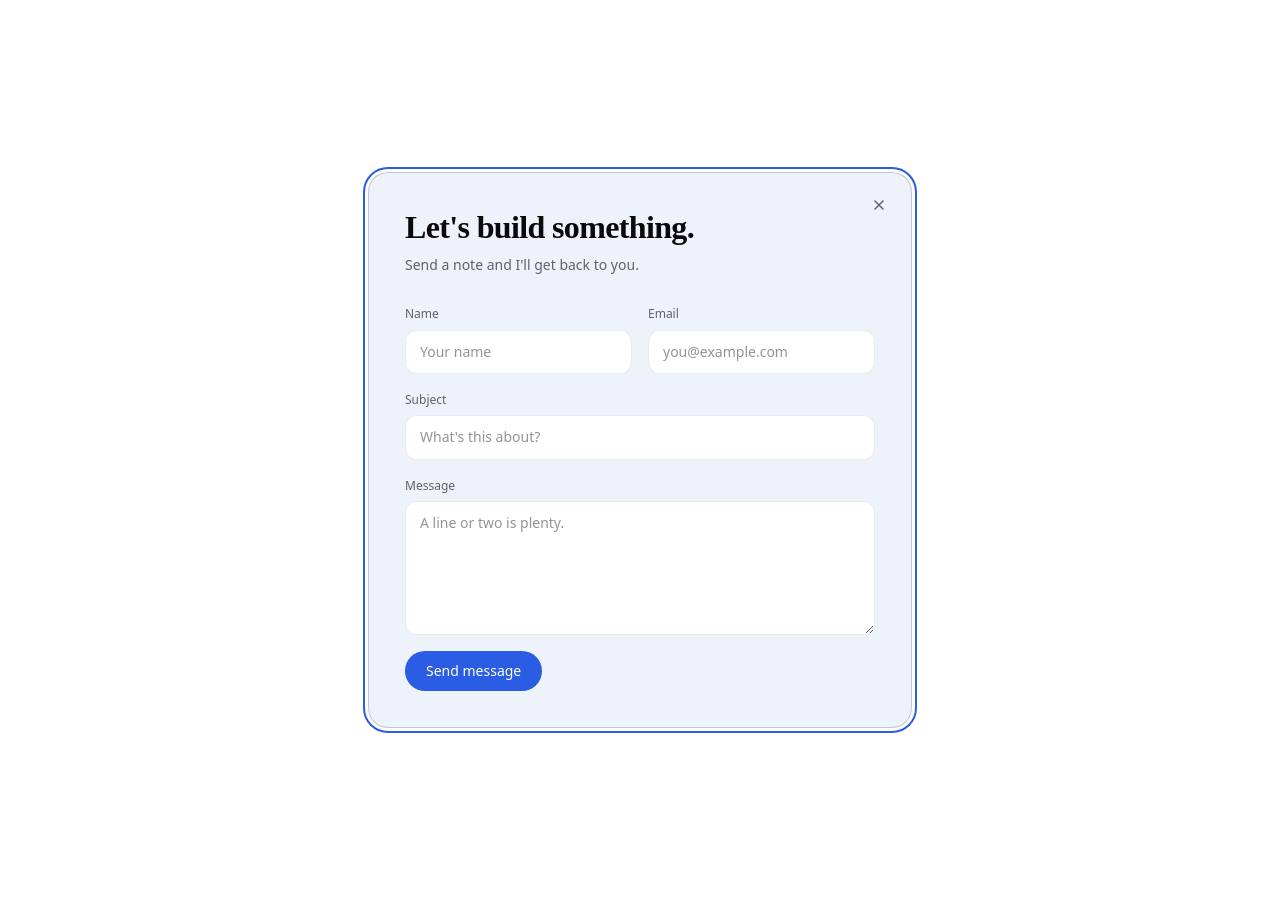
Scenario: ContactModal › falls back to a network message when the request throws
Type "Ada" into the field labelled "Name".
click(518, 352); type("Ada")  # box [405,330,632,374]
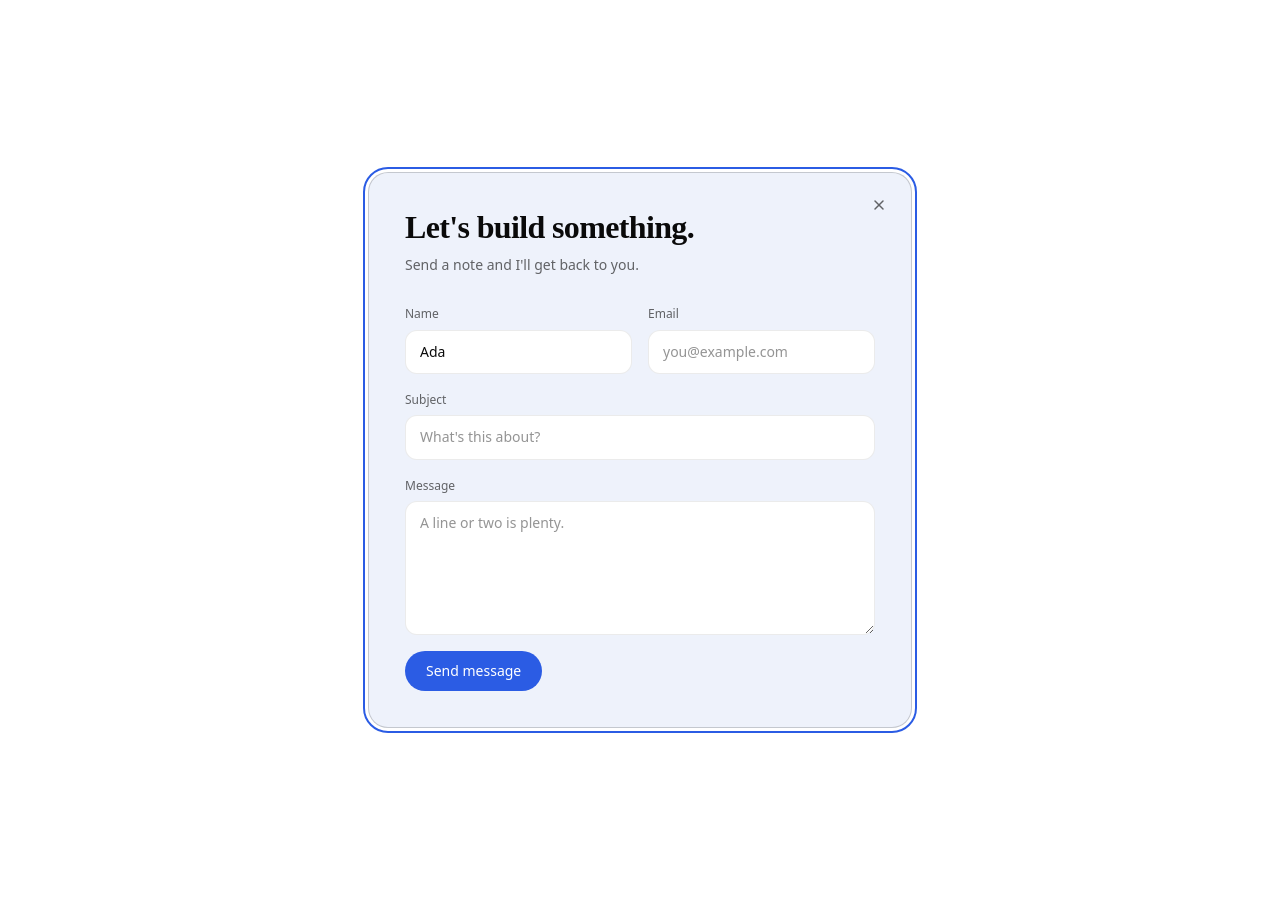
Type "ada@example.com" into the field labelled "Email".
click(762, 352); type("ada@example.com")  # box [648,330,875,374]
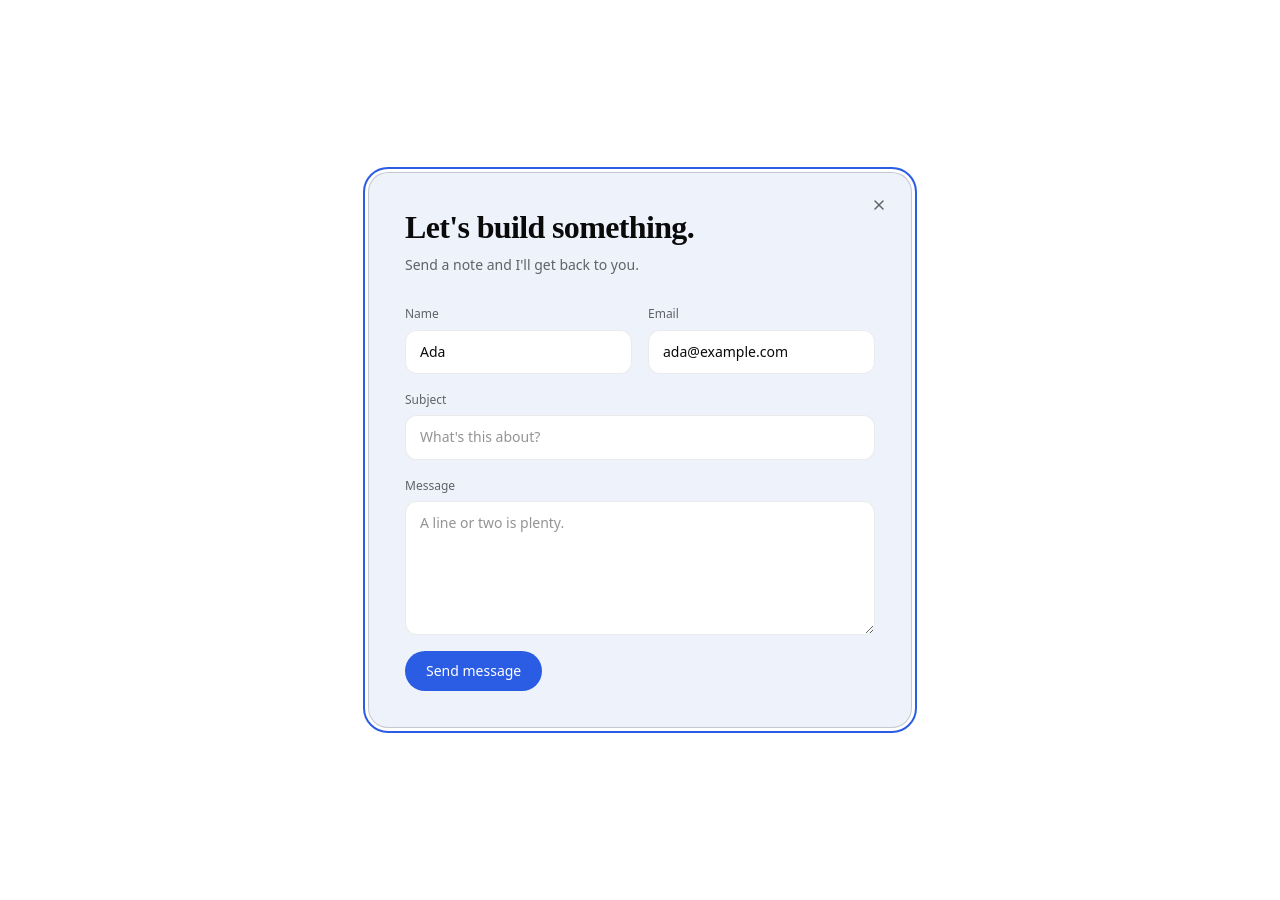
Type "Hello" into the field labelled "Subject".
click(640, 437); type("Hello")  # box [405,415,875,460]
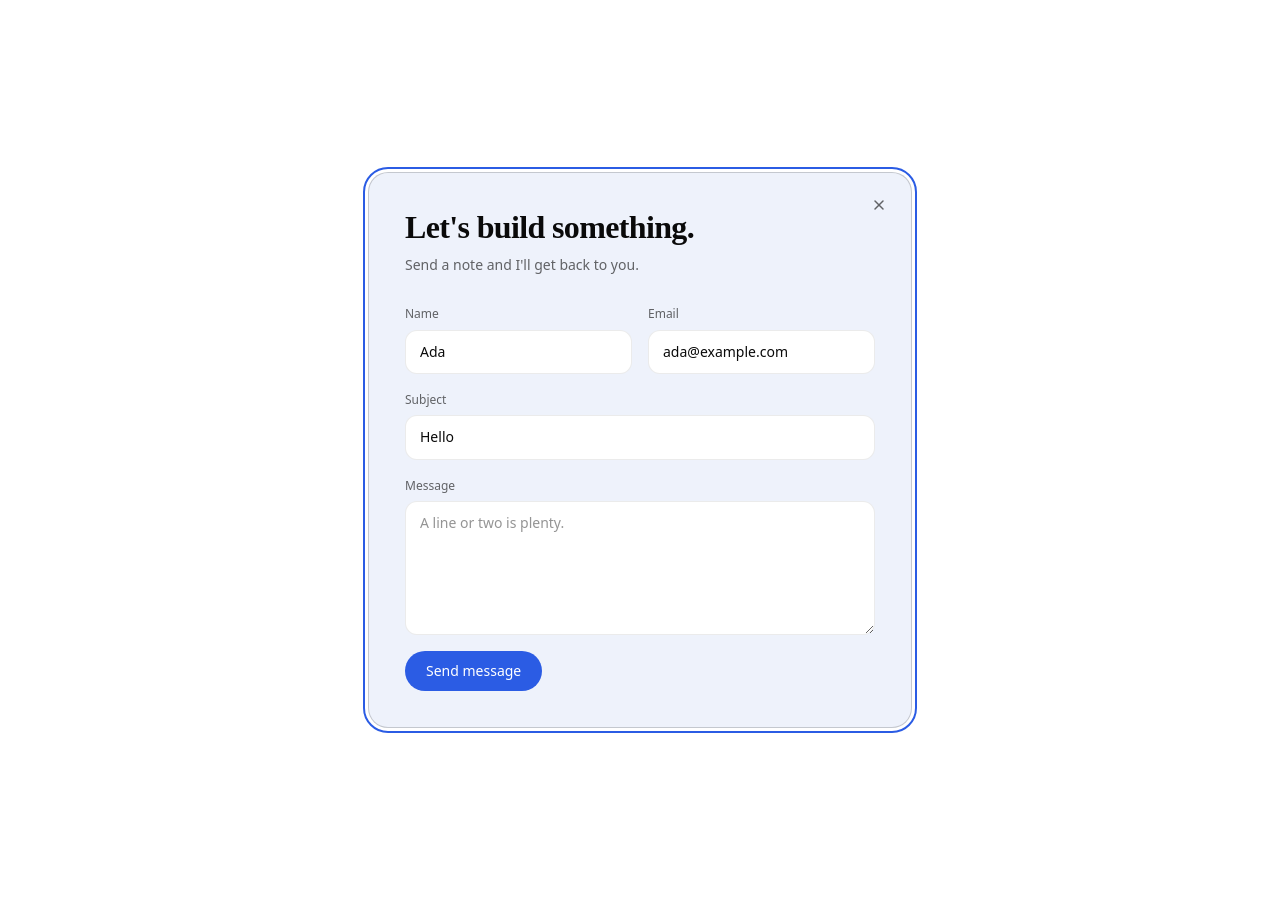
Type "Hi there" into the text box labelled "Message".
click(640, 568); type("Hi there")  # box [405,501,875,635]
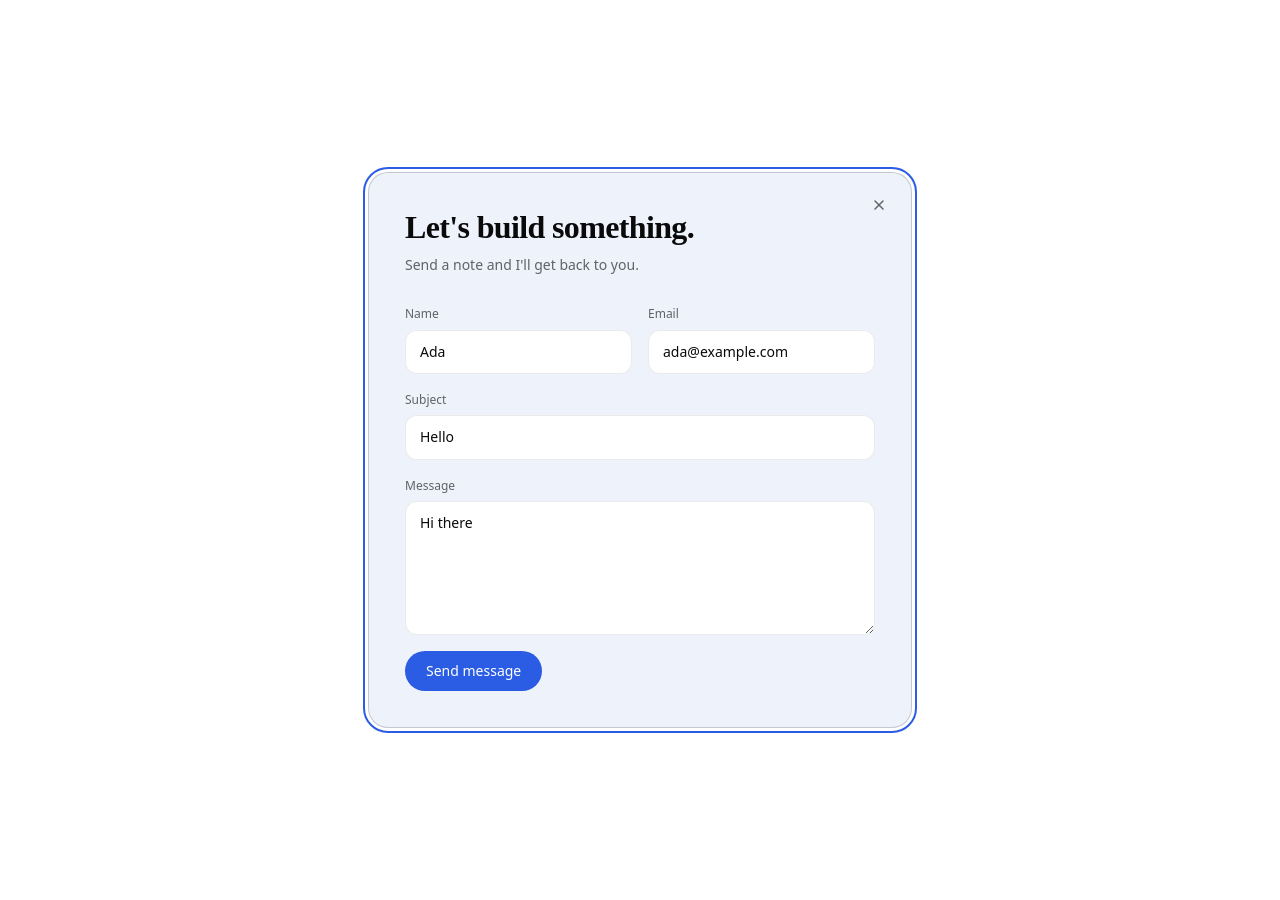
Submit the form with test id "contact-modal-form", box [405,304,875,691]
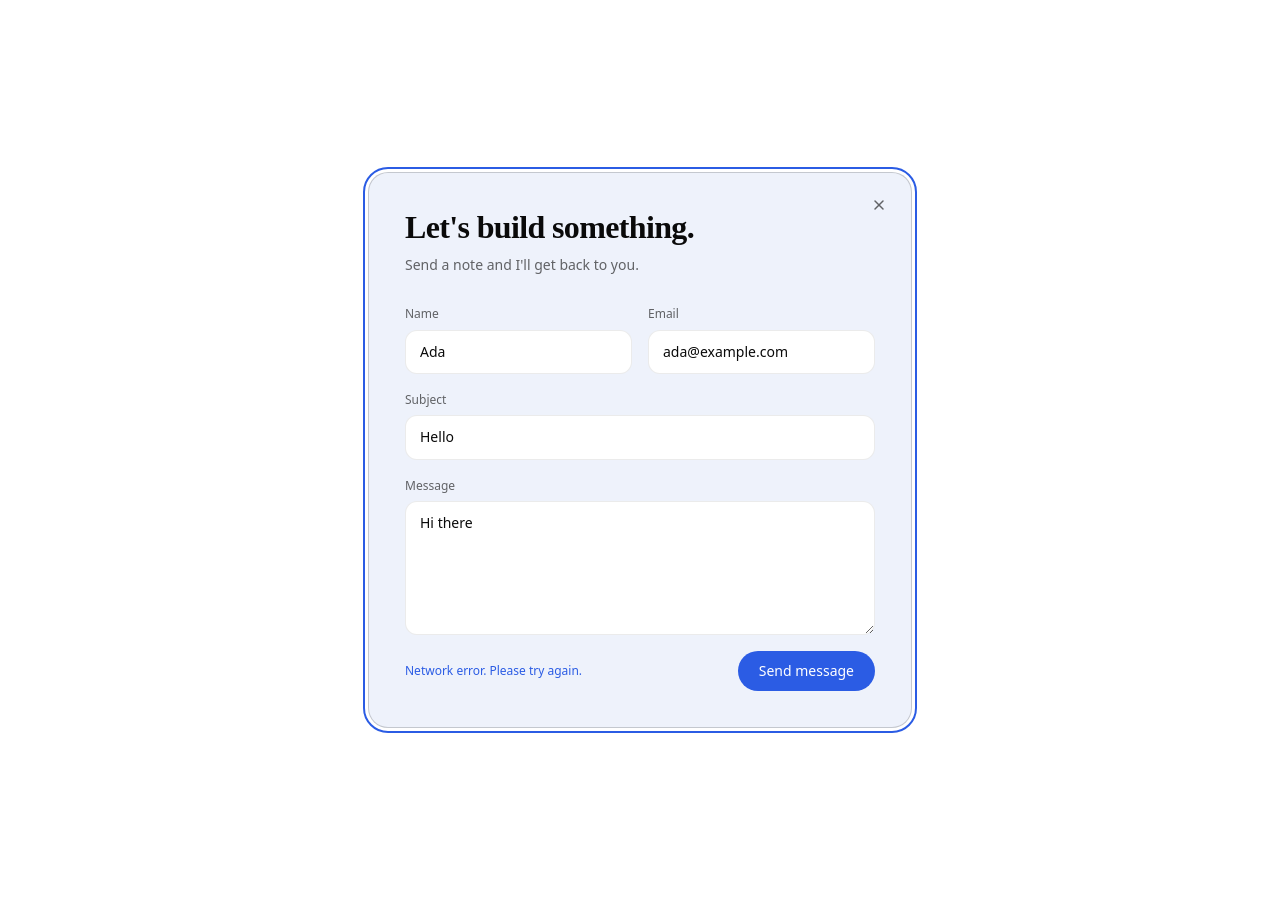
Now the message reads "Network error. Please try again.", box [405,662,582,679]
